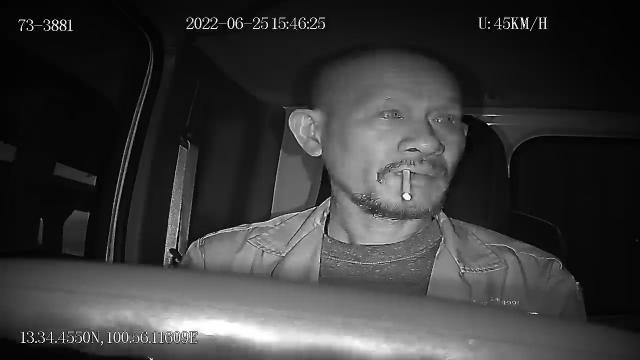SafeDriving: (419, 101, 464, 131), (368, 99, 410, 126)
Smoking: (400, 168, 412, 201)
